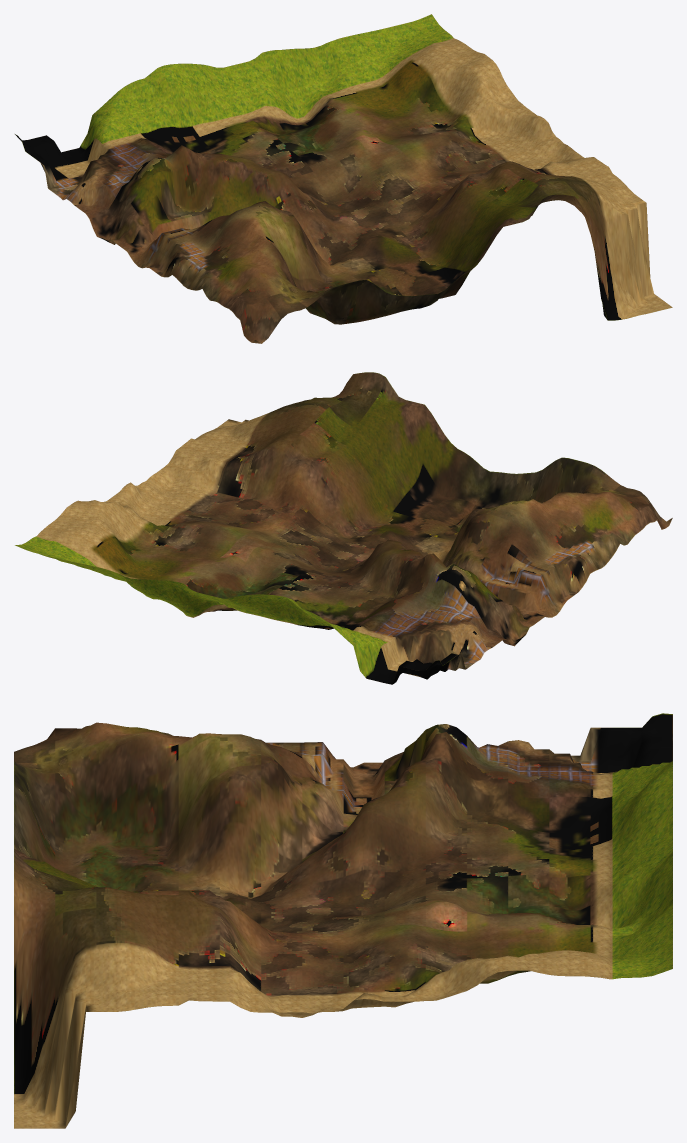
Rendered from terrain.glb.
3 views of the same model, one above another, from view 1: azimuth 30°, elevation 25°; view 2: azimuth 150°, elevation 25°; view 3: azimuth 270°, elevation 25° (orthographic). The views are drawn at different scales.
Visible parts, largest first — view 1: terrain_0_3; view 2: terrain_0_3; view 3: terrain_0_3.
Boxes of the visible parts, x1,y1,x2,y2 form: terrain_0_3: (15,14,672,343); terrain_0_3: (15,372,672,684); terrain_0_3: (14,713,672,1128).
Size of the model in its own units: 512 by 167 by 512.
Materials: 1 (1 with a texture image).
